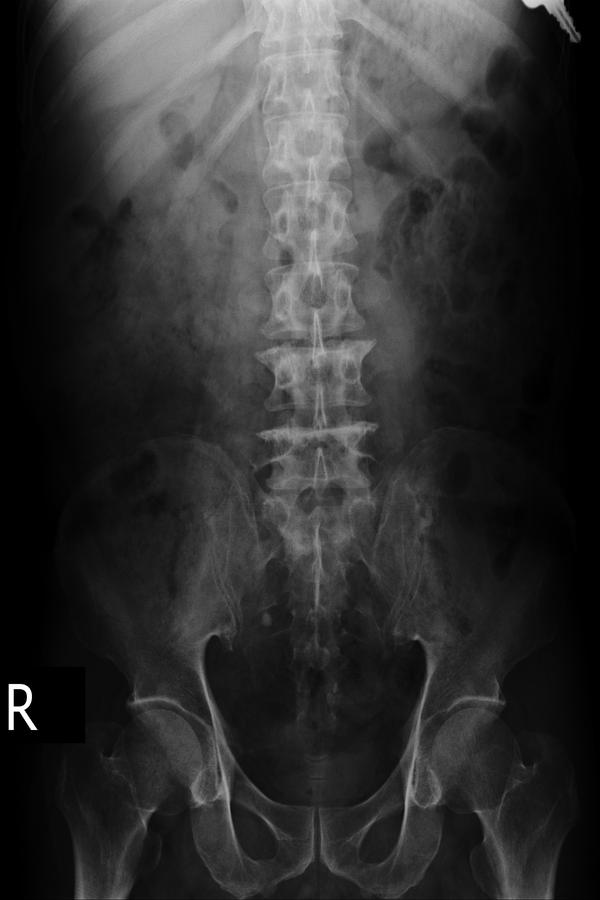lumbar scoliosis: (249, 7, 381, 561)
